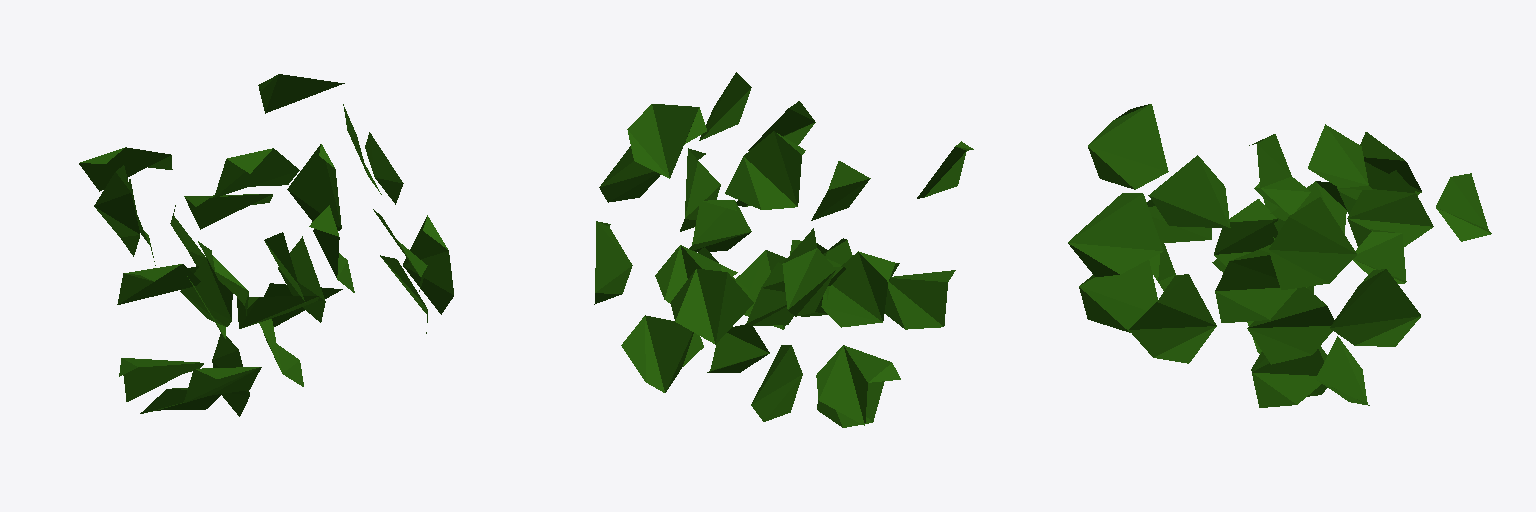
The model's file is leave.obj.
The picture shows the model from 3 angles: view 1: azimuth 30°, elevation 25°; view 2: azimuth 150°, elevation 25°; view 3: azimuth 270°, elevation 25°; orthographic projection.
Visible parts, largest first — view 1: Plane.000_Plane.003; view 2: Plane.000_Plane.003; view 3: Plane.000_Plane.003.
Boxes of the visible parts, <box> form: Plane.000_Plane.003: <box>79,74,453,416</box>; Plane.000_Plane.003: <box>594,72,973,427</box>; Plane.000_Plane.003: <box>1068,104,1491,407</box>.
Size of the model in its own units: 0.5049 by 0.5503 by 0.6876.